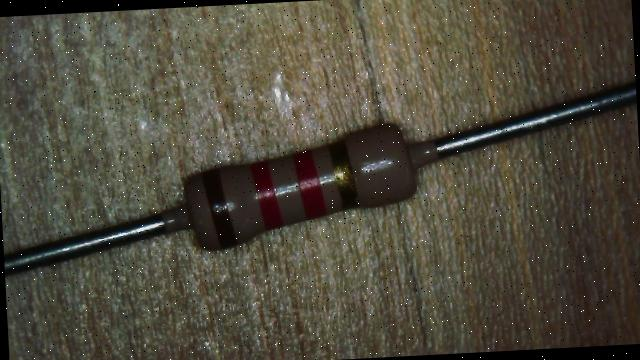brown: (202, 164, 230, 252)
gold: (329, 138, 356, 209)
red: (294, 146, 322, 221), (252, 157, 278, 232)
resistor: (154, 81, 456, 286)
